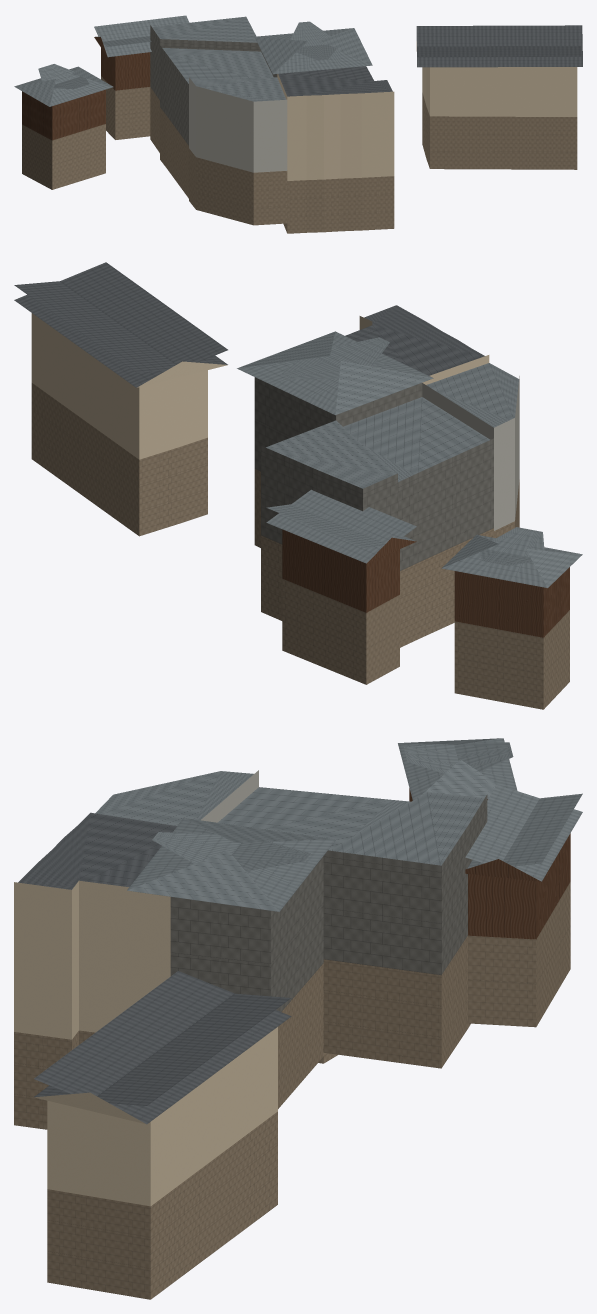
The model's file is bld_c22_45_385.gltf.
3 views of the same model, one above another, from view 1: azimuth 30°, elevation 25°; view 2: azimuth 150°, elevation 25°; view 3: azimuth 270°, elevation 25° (orthographic). The views are drawn at different scales.
Visible parts, largest first — view 1: bld_c22_45_385; view 2: bld_c22_45_385; view 3: bld_c22_45_385.
Boxes of the visible parts, <box> form: bld_c22_45_385: <box>14,15,582,233</box>; bld_c22_45_385: <box>14,262,582,709</box>; bld_c22_45_385: <box>14,738,582,1299</box>.
Bounding box in the file's own units: 47.38 × 14.3 × 28.16.
11 materials, 11 textured.
